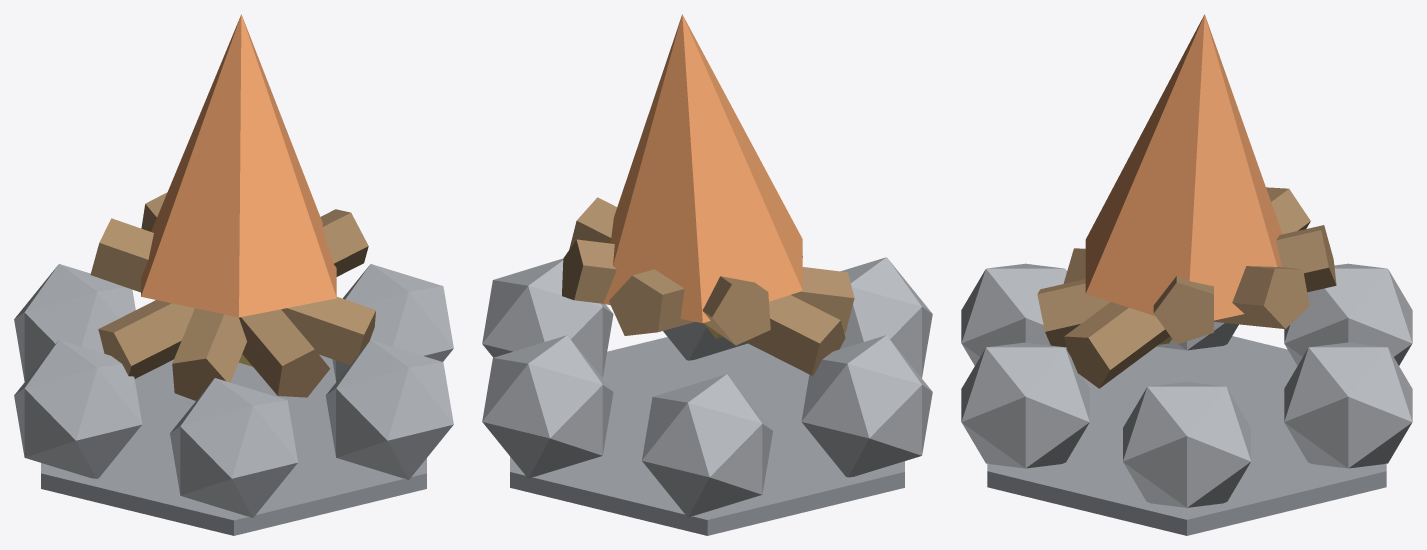
Rendered from animprop_campfire_00.glb.
3 renders of one model, left to right at view 1: azimuth 30°, elevation 25°; view 2: azimuth 150°, elevation 25°; view 3: azimuth 270°, elevation 25°, orthographic. The views are drawn at different scales.
Visible parts, largest first — view 1: animprop; view 2: animprop; view 3: animprop.
Boxes of the visible parts, x1,y1,x2,y2 form: animprop: (14,14,453,535); animprop: (482,14,932,535); animprop: (961,14,1412,535).
Bounding box in the file's own units: 1.13 × 1.08 × 1.02.
